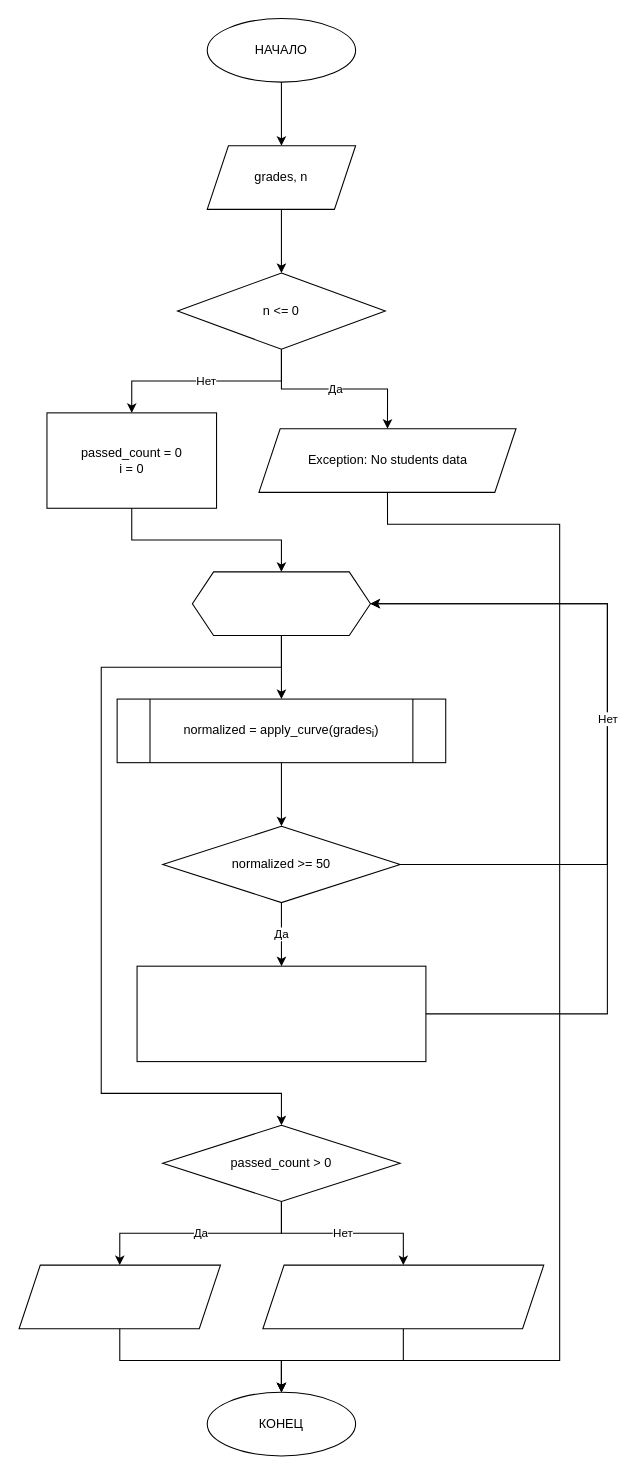
The diagram is 635 pixels wide and 1474 high, and some of its shapes have lost their labels. Here are the shapes that lost their labels. From the top down, the box of each, then its label:
(191, 571, 370, 635): i = 0, n - 1
(136, 965, 426, 1062): passed_count = passed_count + 1 grades i = normalized
(18, 1264, 220, 1329): grades, passed_count
(262, 1264, 544, 1329): Exception: All students failed
